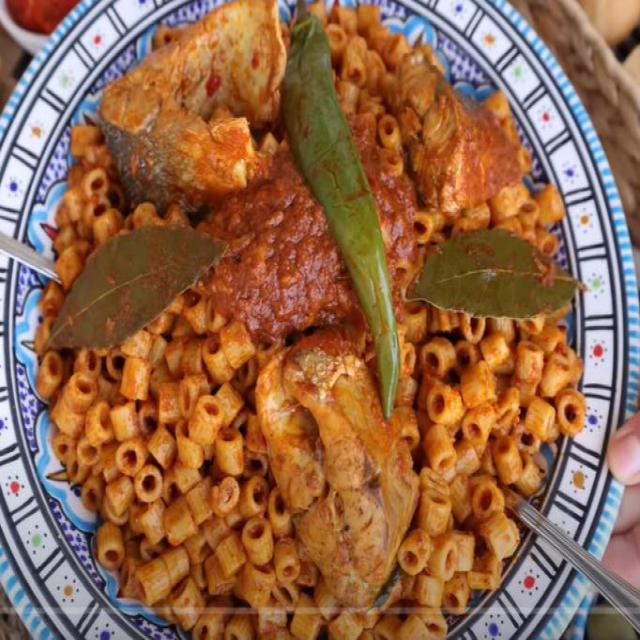Pasta: (11, 14, 585, 593)
